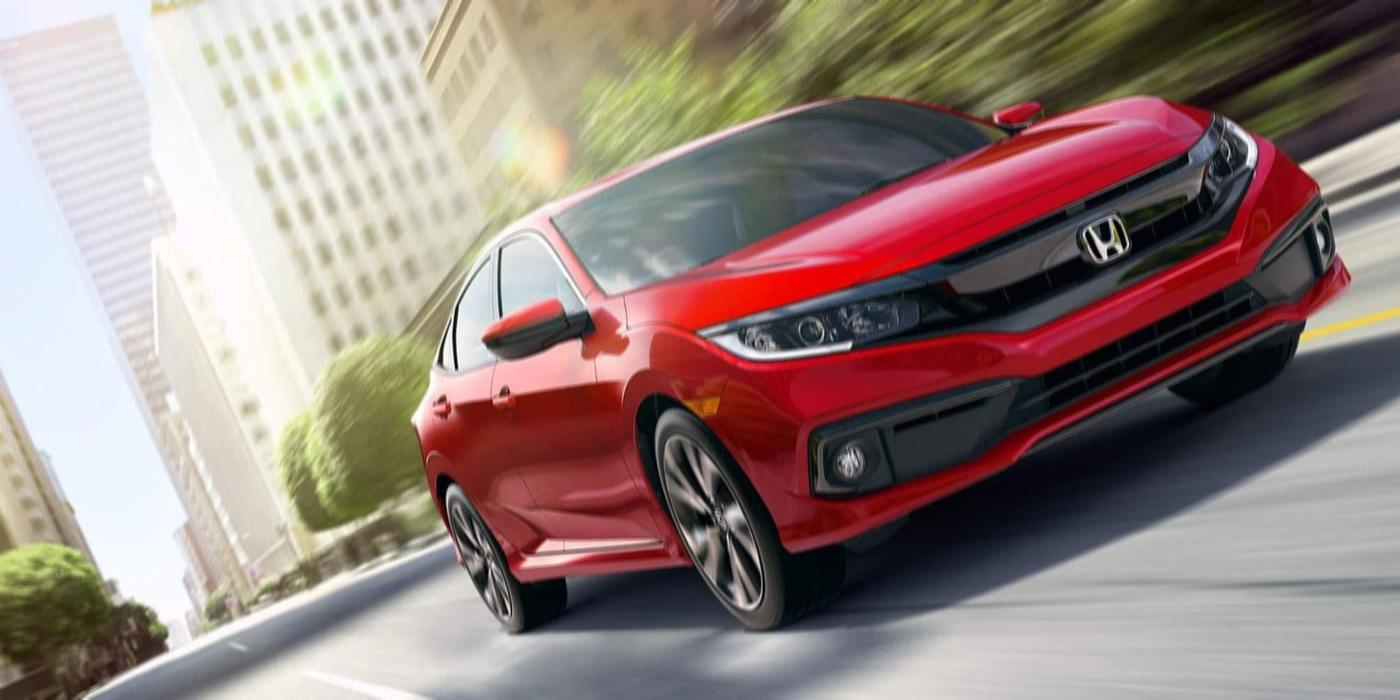Car hood: (602, 86, 1216, 336)
Driver-s door - -F-R-: (479, 213, 680, 599)
Fender - -F-R-: (580, 283, 761, 577)
Front bumper: (718, 138, 1365, 582)
Headlight - -L-: (1184, 109, 1258, 204)
Headlight - -R-: (694, 266, 976, 369)
Passenger-s door - -R-R-: (436, 225, 568, 622)
Side bumper - -R-: (497, 525, 693, 611)
Side mirror - -L-: (990, 95, 1049, 136)
Side mirror - -R-: (480, 296, 595, 364)
